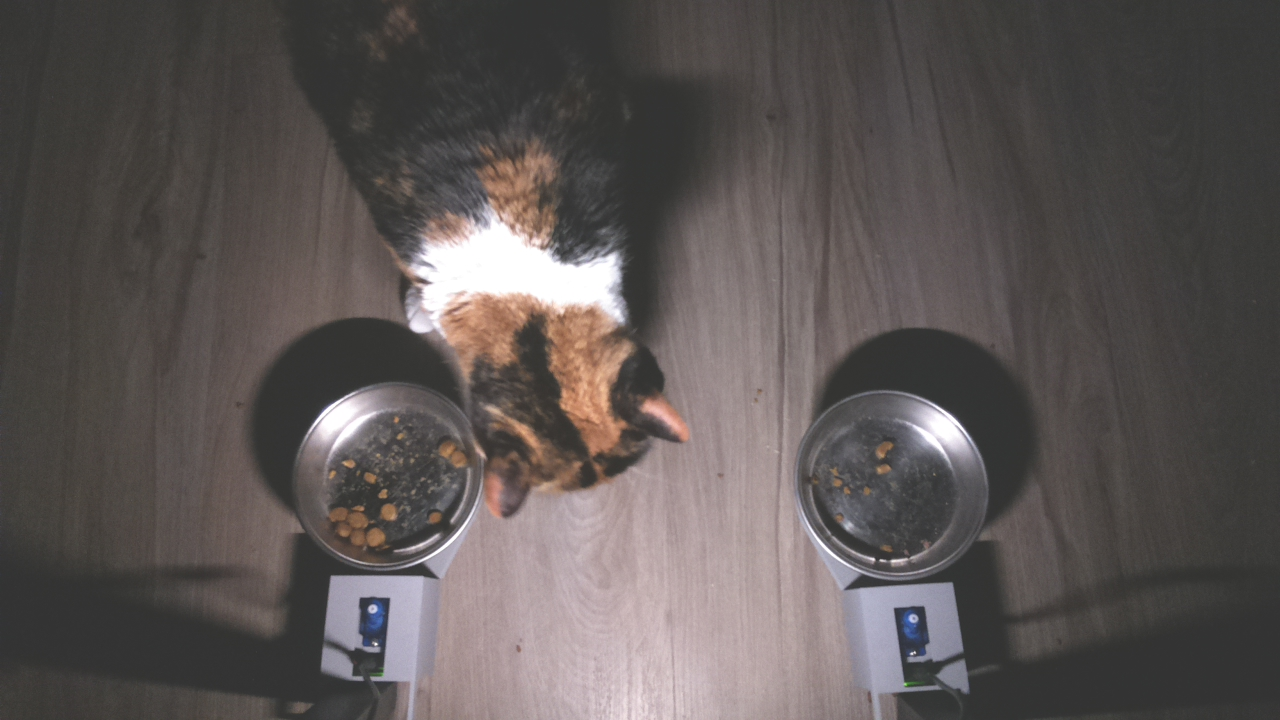bella: (451, 256, 699, 527)
open_bowl: (791, 387, 1012, 582), (292, 385, 482, 568)
